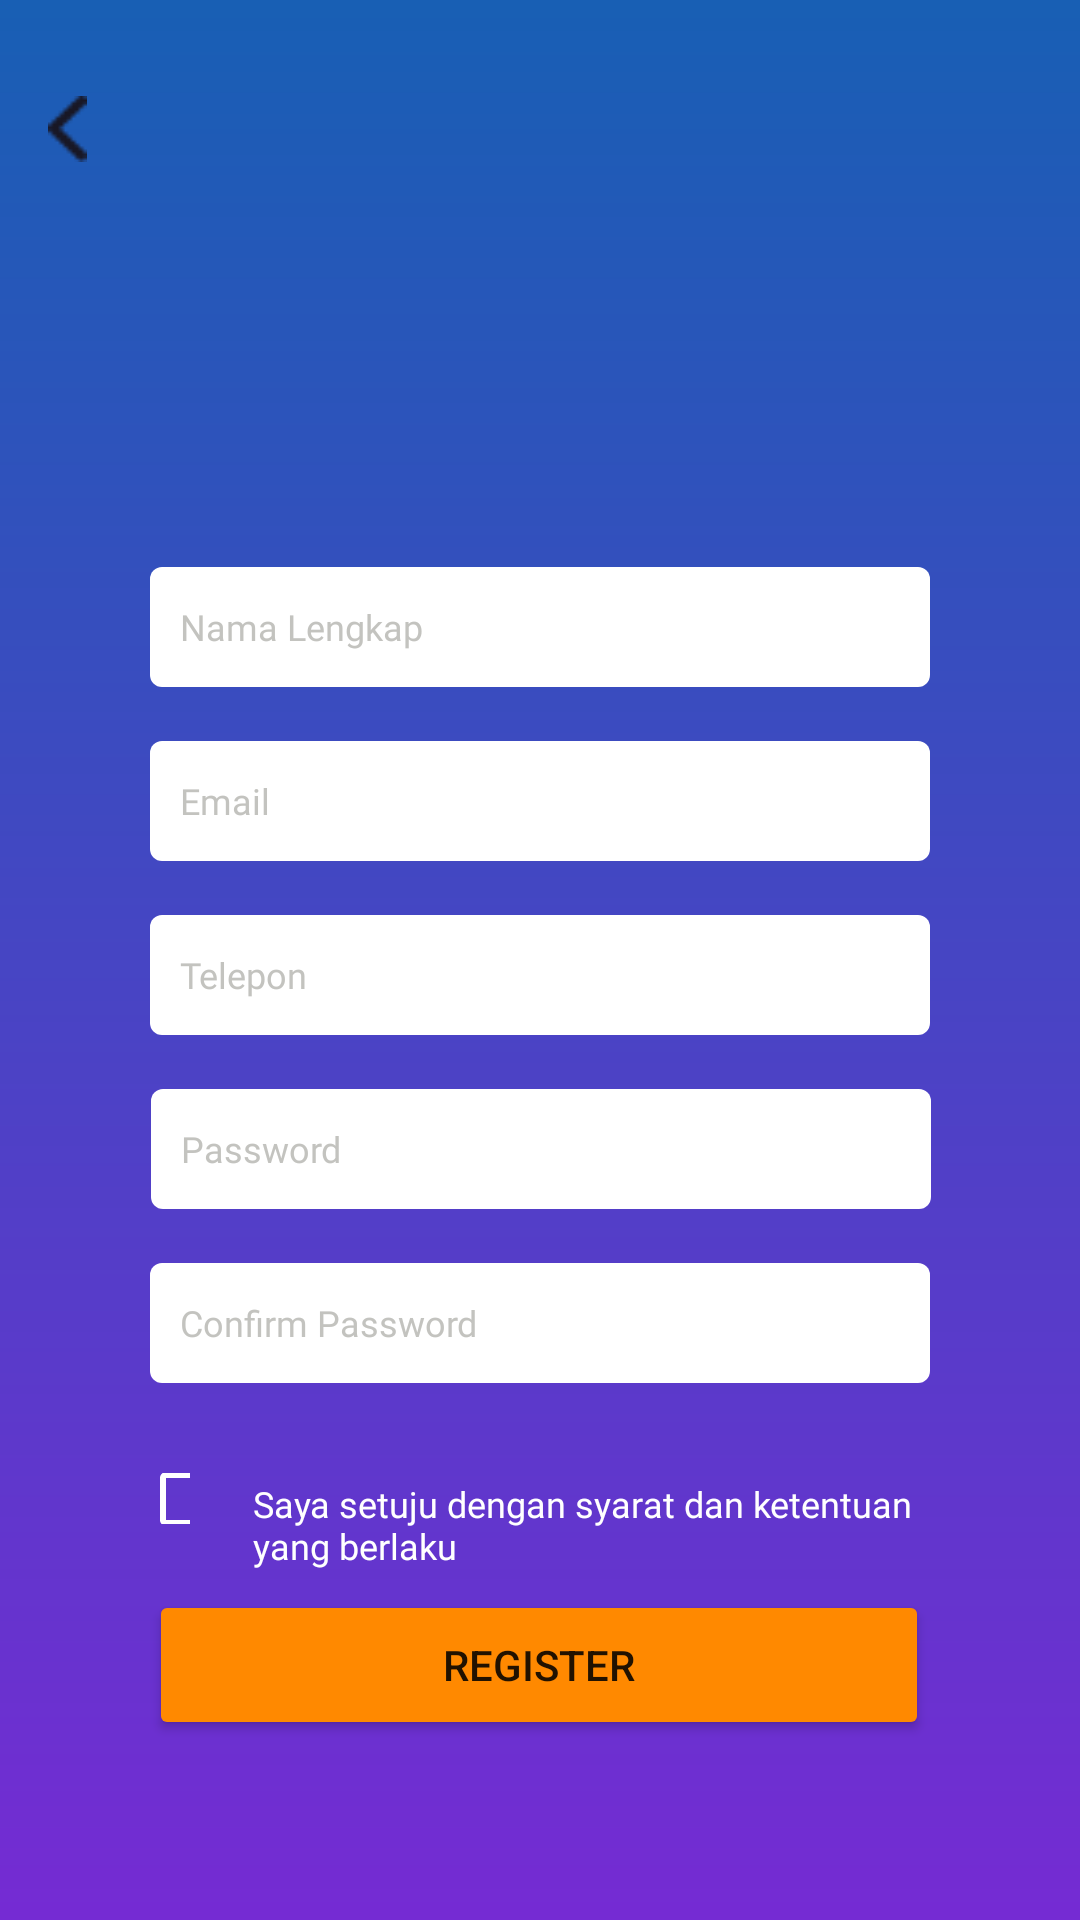

Icon bounding boxes for this 1080px x 1920px phone screenshot, format BBox(x1, y1, x2, y2):
back: BBox(48, 96, 87, 162)
